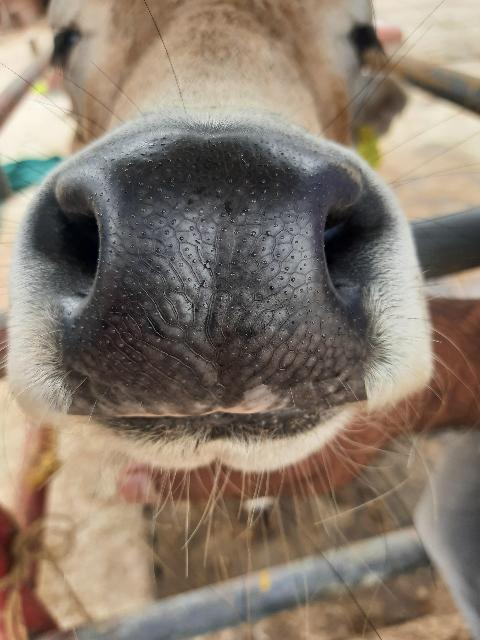Muzzle: (85, 152, 353, 406)
